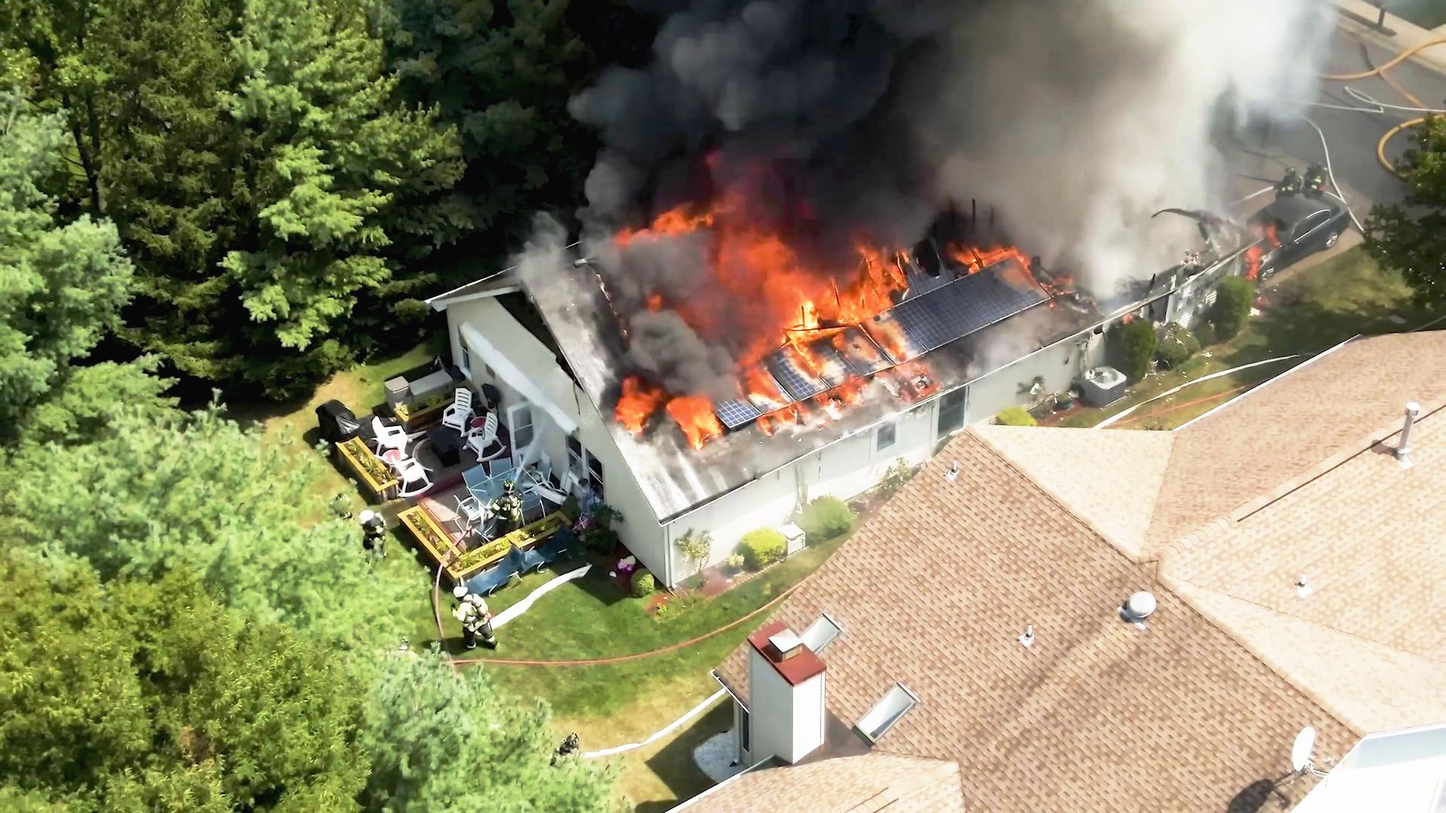fire: (754, 258, 895, 330)
smoke: (718, 0, 1233, 140), (963, 0, 1183, 247)
